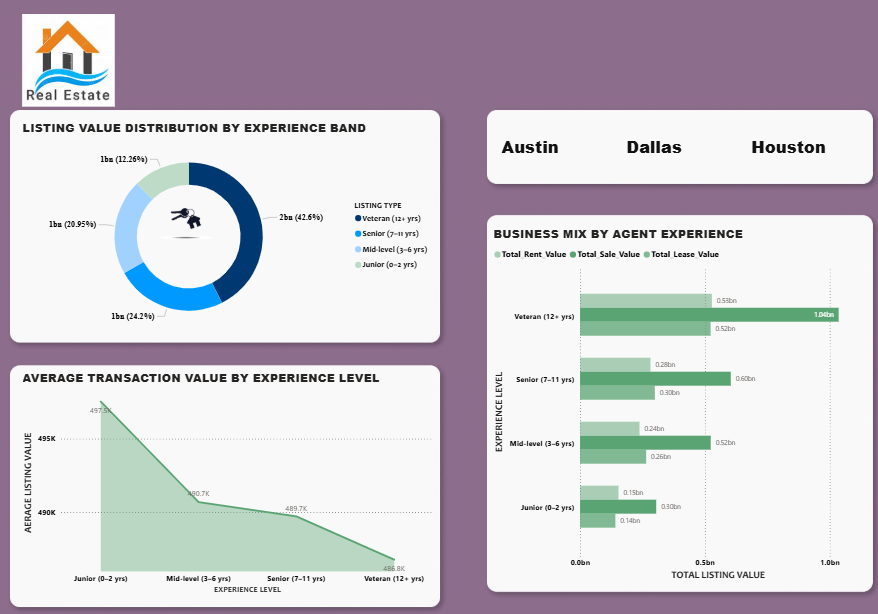

Layout of this report page (visuals, bound fields, positions):
{"tool":"powerbi","page":{"name":"AGENT PERFORMANCE [PART 3]","canvas":[1440,1024],"ordinal":9},"visuals":[{"type":"areaChart","title":"AVERAGE TRANSACTION VALUE BY EXPERIENCE LEVEL","fields":{"Category":["Agents.Experience_Band"],"Y":["Measure_Table.Avg_Listed_Price"]},"box":[42.5,607.5,677.5,370],"z":0},{"type":"clusteredBarChart","title":"BUSINESS MIX BY AGENT EXPERIENCE","fields":{"Category":["Agents.Experience_Band"],"Y":["Measure_Table.Total_Rent_Value","Measure_Table.Total_Sale_Value","Measure_Table.Total_Lease_Value"]},"box":[807.5,372.5,615,582.5],"z":1000},{"type":"donutChart","title":"LISTING VALUE DISTRIBUTION BY EXPERIENCE BAND","fields":{"Category":["Agents.Experience_Band"],"Y":["Measure_Table.Total_Listing_Value"]},"box":[42.5,200,677.5,355],"z":2000},{"type":"advancedSlicerVisual","fields":{"Values":["Properties.City"]},"box":[807.5,200,615,90],"z":3000},{"type":"image","box":[267.5,332.5,87.5,77.5],"z":4000},{"type":"image","box":[25.1,29.6,193.7,150.4],"z":5000}]}

Visuals, with their boxes in screenshot pixels (x1, y1, x2, y2), scaled from the page's 1440x1024 canvas onto the 878x614 screenshot:
"AVERAGE TRANSACTION VALUE BY EXPERIENCE LEVEL" areaChart: (26,364,439,586)
"BUSINESS MIX BY AGENT EXPERIENCE" clusteredBarChart: (492,223,867,573)
"LISTING VALUE DISTRIBUTION BY EXPERIENCE BAND" donutChart: (26,120,439,333)
advancedSlicerVisual - Properties.City: (492,120,867,174)
image: (163,199,216,246)
image: (15,18,133,108)
